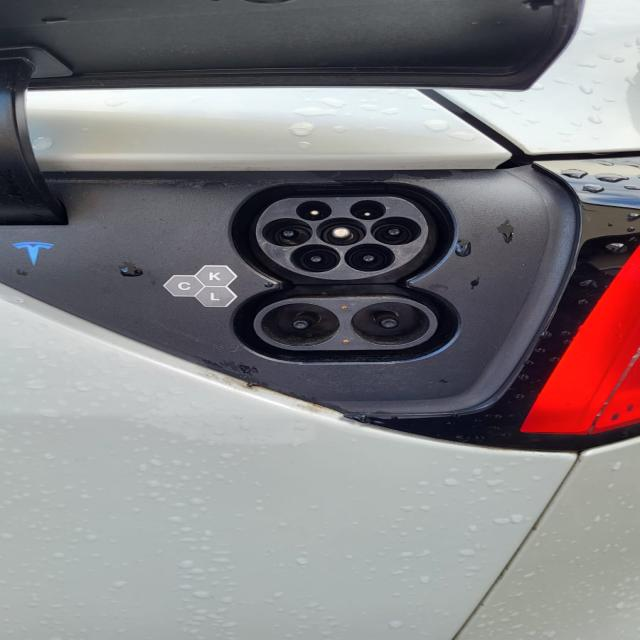inlet: (256, 197, 428, 280)
inlet-above-left: (296, 201, 332, 220)
inlet-above-right: (350, 200, 385, 220)
inlet-circle: (316, 217, 367, 245)
inlet-circle-left: (262, 218, 313, 247)
inlet-circle-right: (371, 216, 421, 245)
inlet-minus: (350, 302, 430, 346), (345, 244, 395, 273)
inlet-plus: (261, 303, 340, 347), (291, 244, 340, 272)
